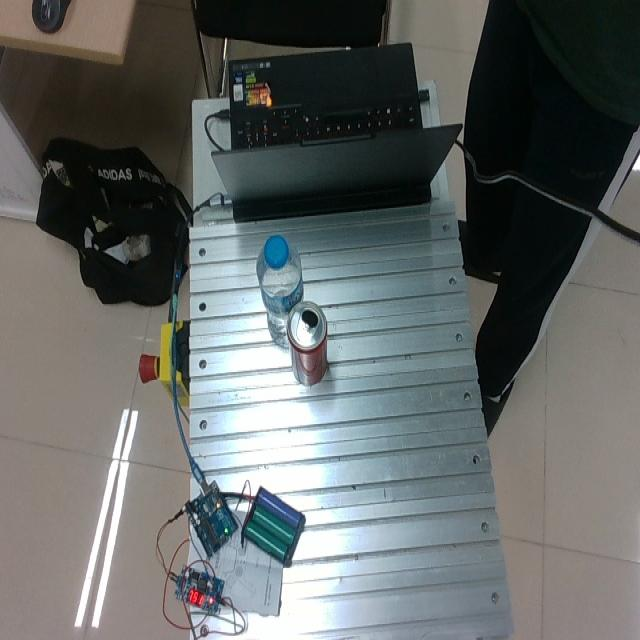coca: (286, 300, 328, 385)
lavie: (256, 233, 304, 347)
